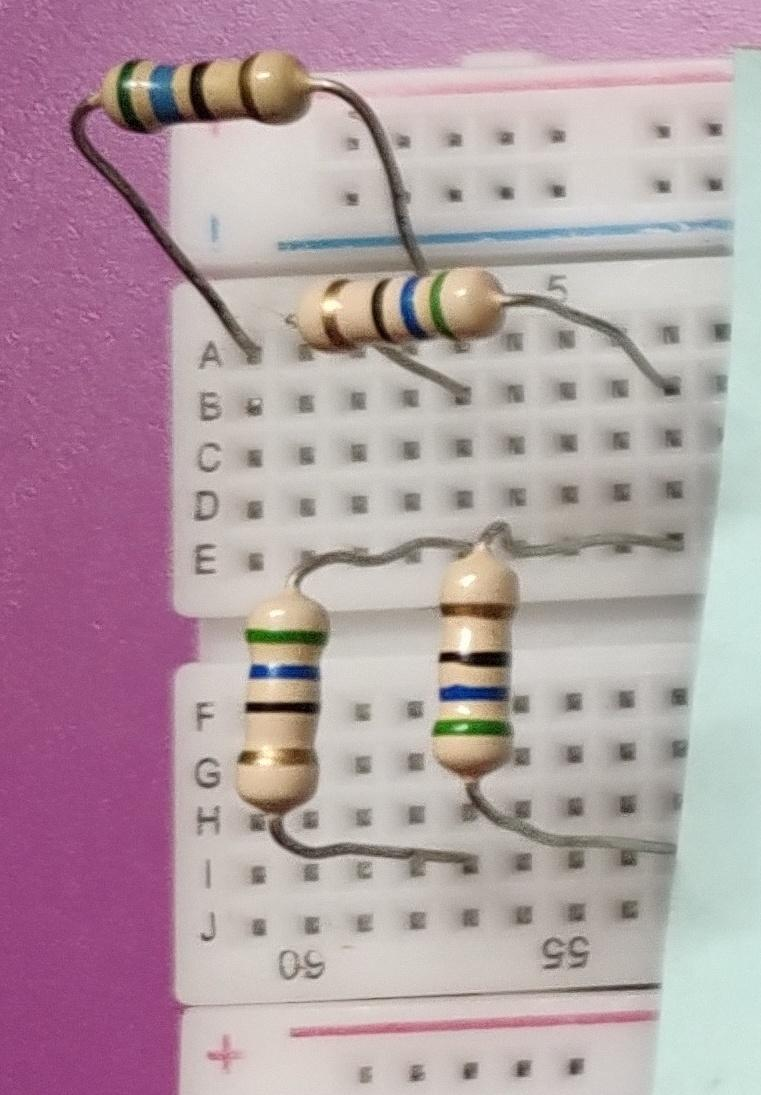resistor: (421, 533, 540, 795), (219, 571, 331, 835), (93, 30, 330, 147), (277, 249, 513, 360)
